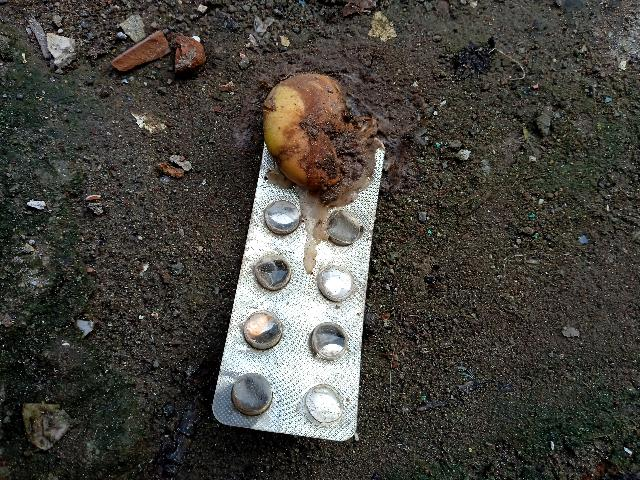medicine: (201, 171, 399, 460)
